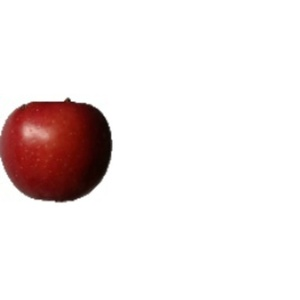maçã braeburn: (1, 95, 115, 203)
